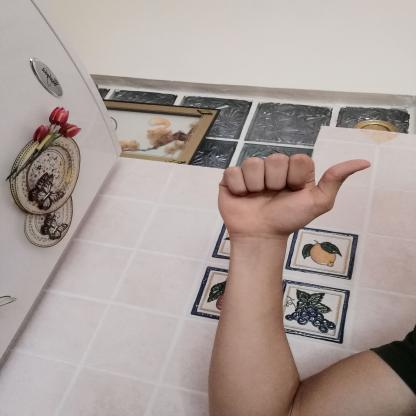DAD: (205, 146, 383, 248)
